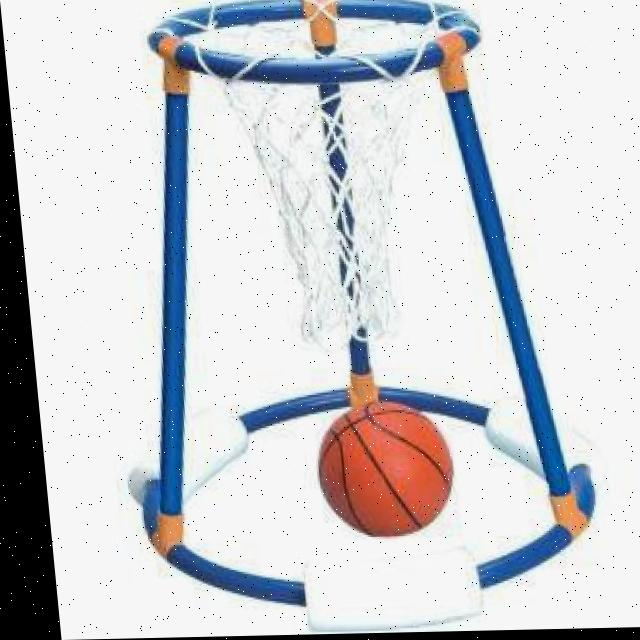Basketball: (310, 399, 462, 540)
hoop: (145, 0, 515, 358)
